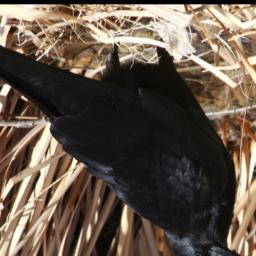Crow: (0, 42, 247, 256)
